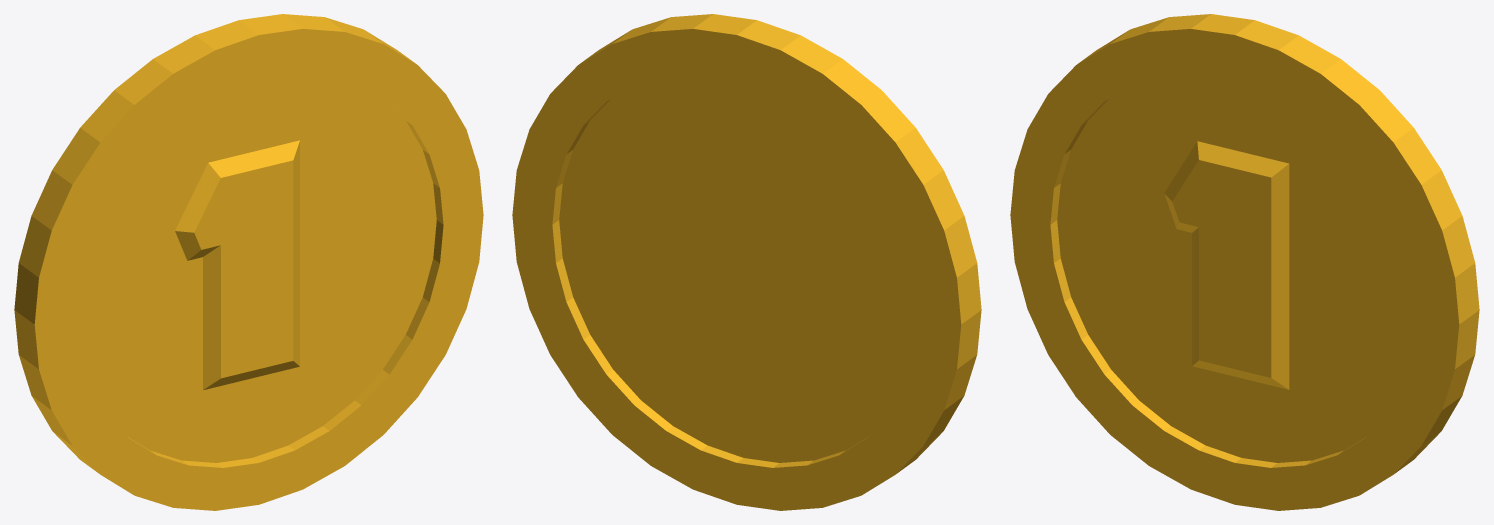
File: coin.glb
3 renders of one model, left to right at view 1: azimuth 30°, elevation 25°; view 2: azimuth 150°, elevation 25°; view 3: azimuth 330°, elevation 25°, orthographic.
Parts seen in each view (by area): view 1: coin; view 2: coin; view 3: coin.
Part boxes in pixels (<box>): coin: <box>14,14,483,510</box>; coin: <box>512,14,981,510</box>; coin: <box>1010,14,1479,510</box>.
Size of the model in its own units: 0.25 by 0.25 by 0.0196.
